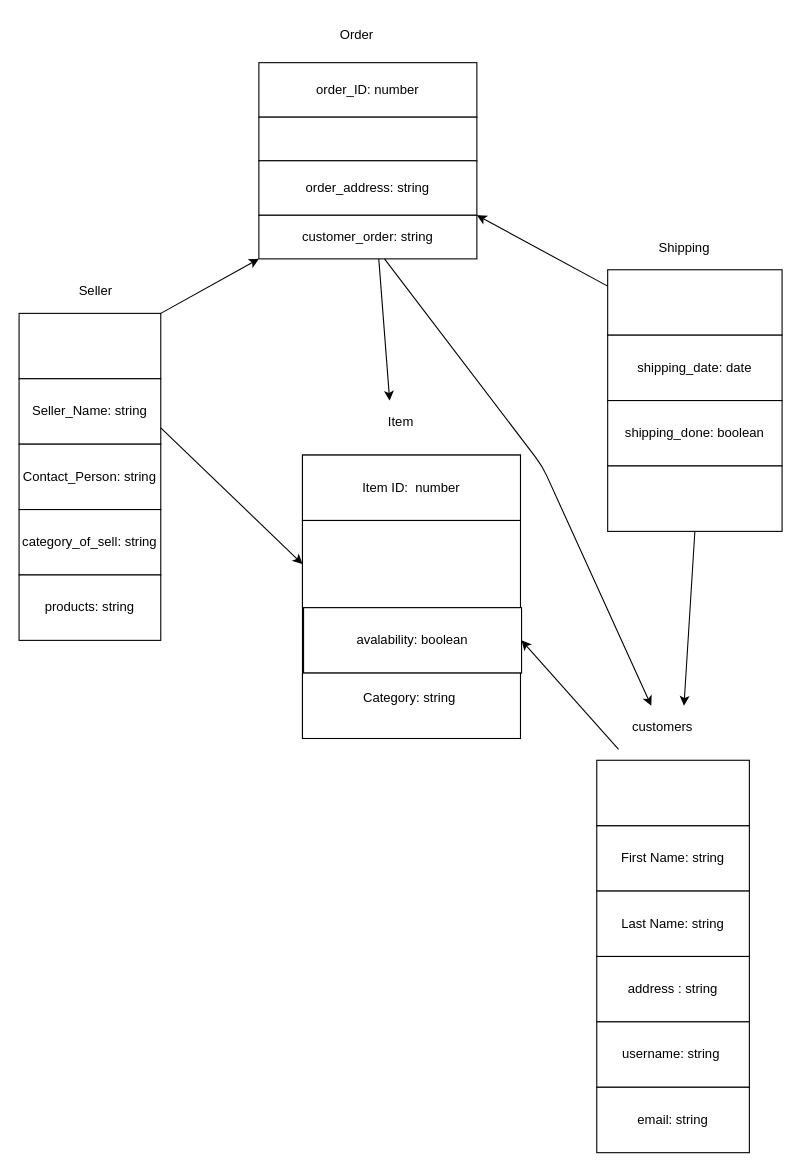
Image size: 801x1172. Some labels were removed from this diagram. Each missing label, with the centre of its shape:
"Customer ID: number" goes at (x=672, y=792).
"price: number" goes at (x=410, y=563).
"seller_ID: number" goes at (x=89, y=345).
"shipping method: string" goes at (x=694, y=498).
"Shipping_ID: Number" goes at (x=694, y=302).
"sum: int" goes at (x=367, y=138).
